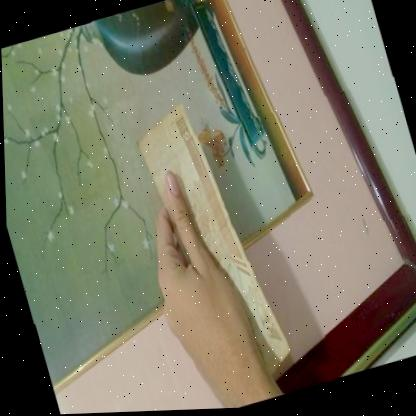five-back-vef: (129, 91, 293, 397)
